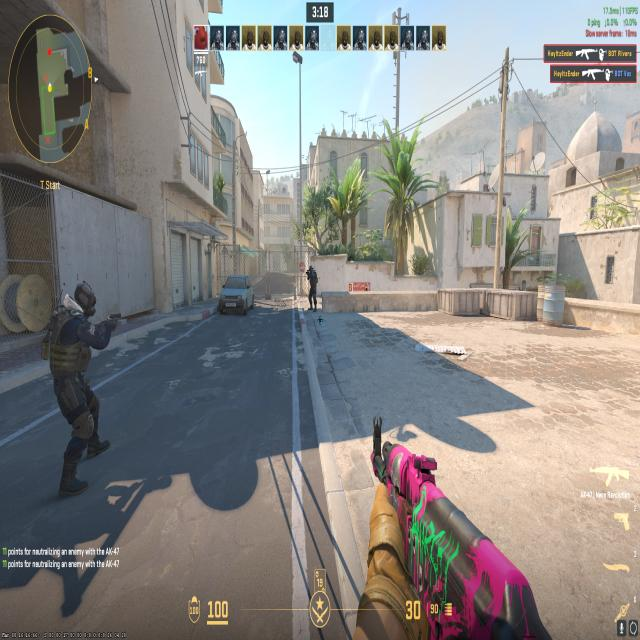ct: (37, 266, 115, 494), (304, 258, 320, 316)
